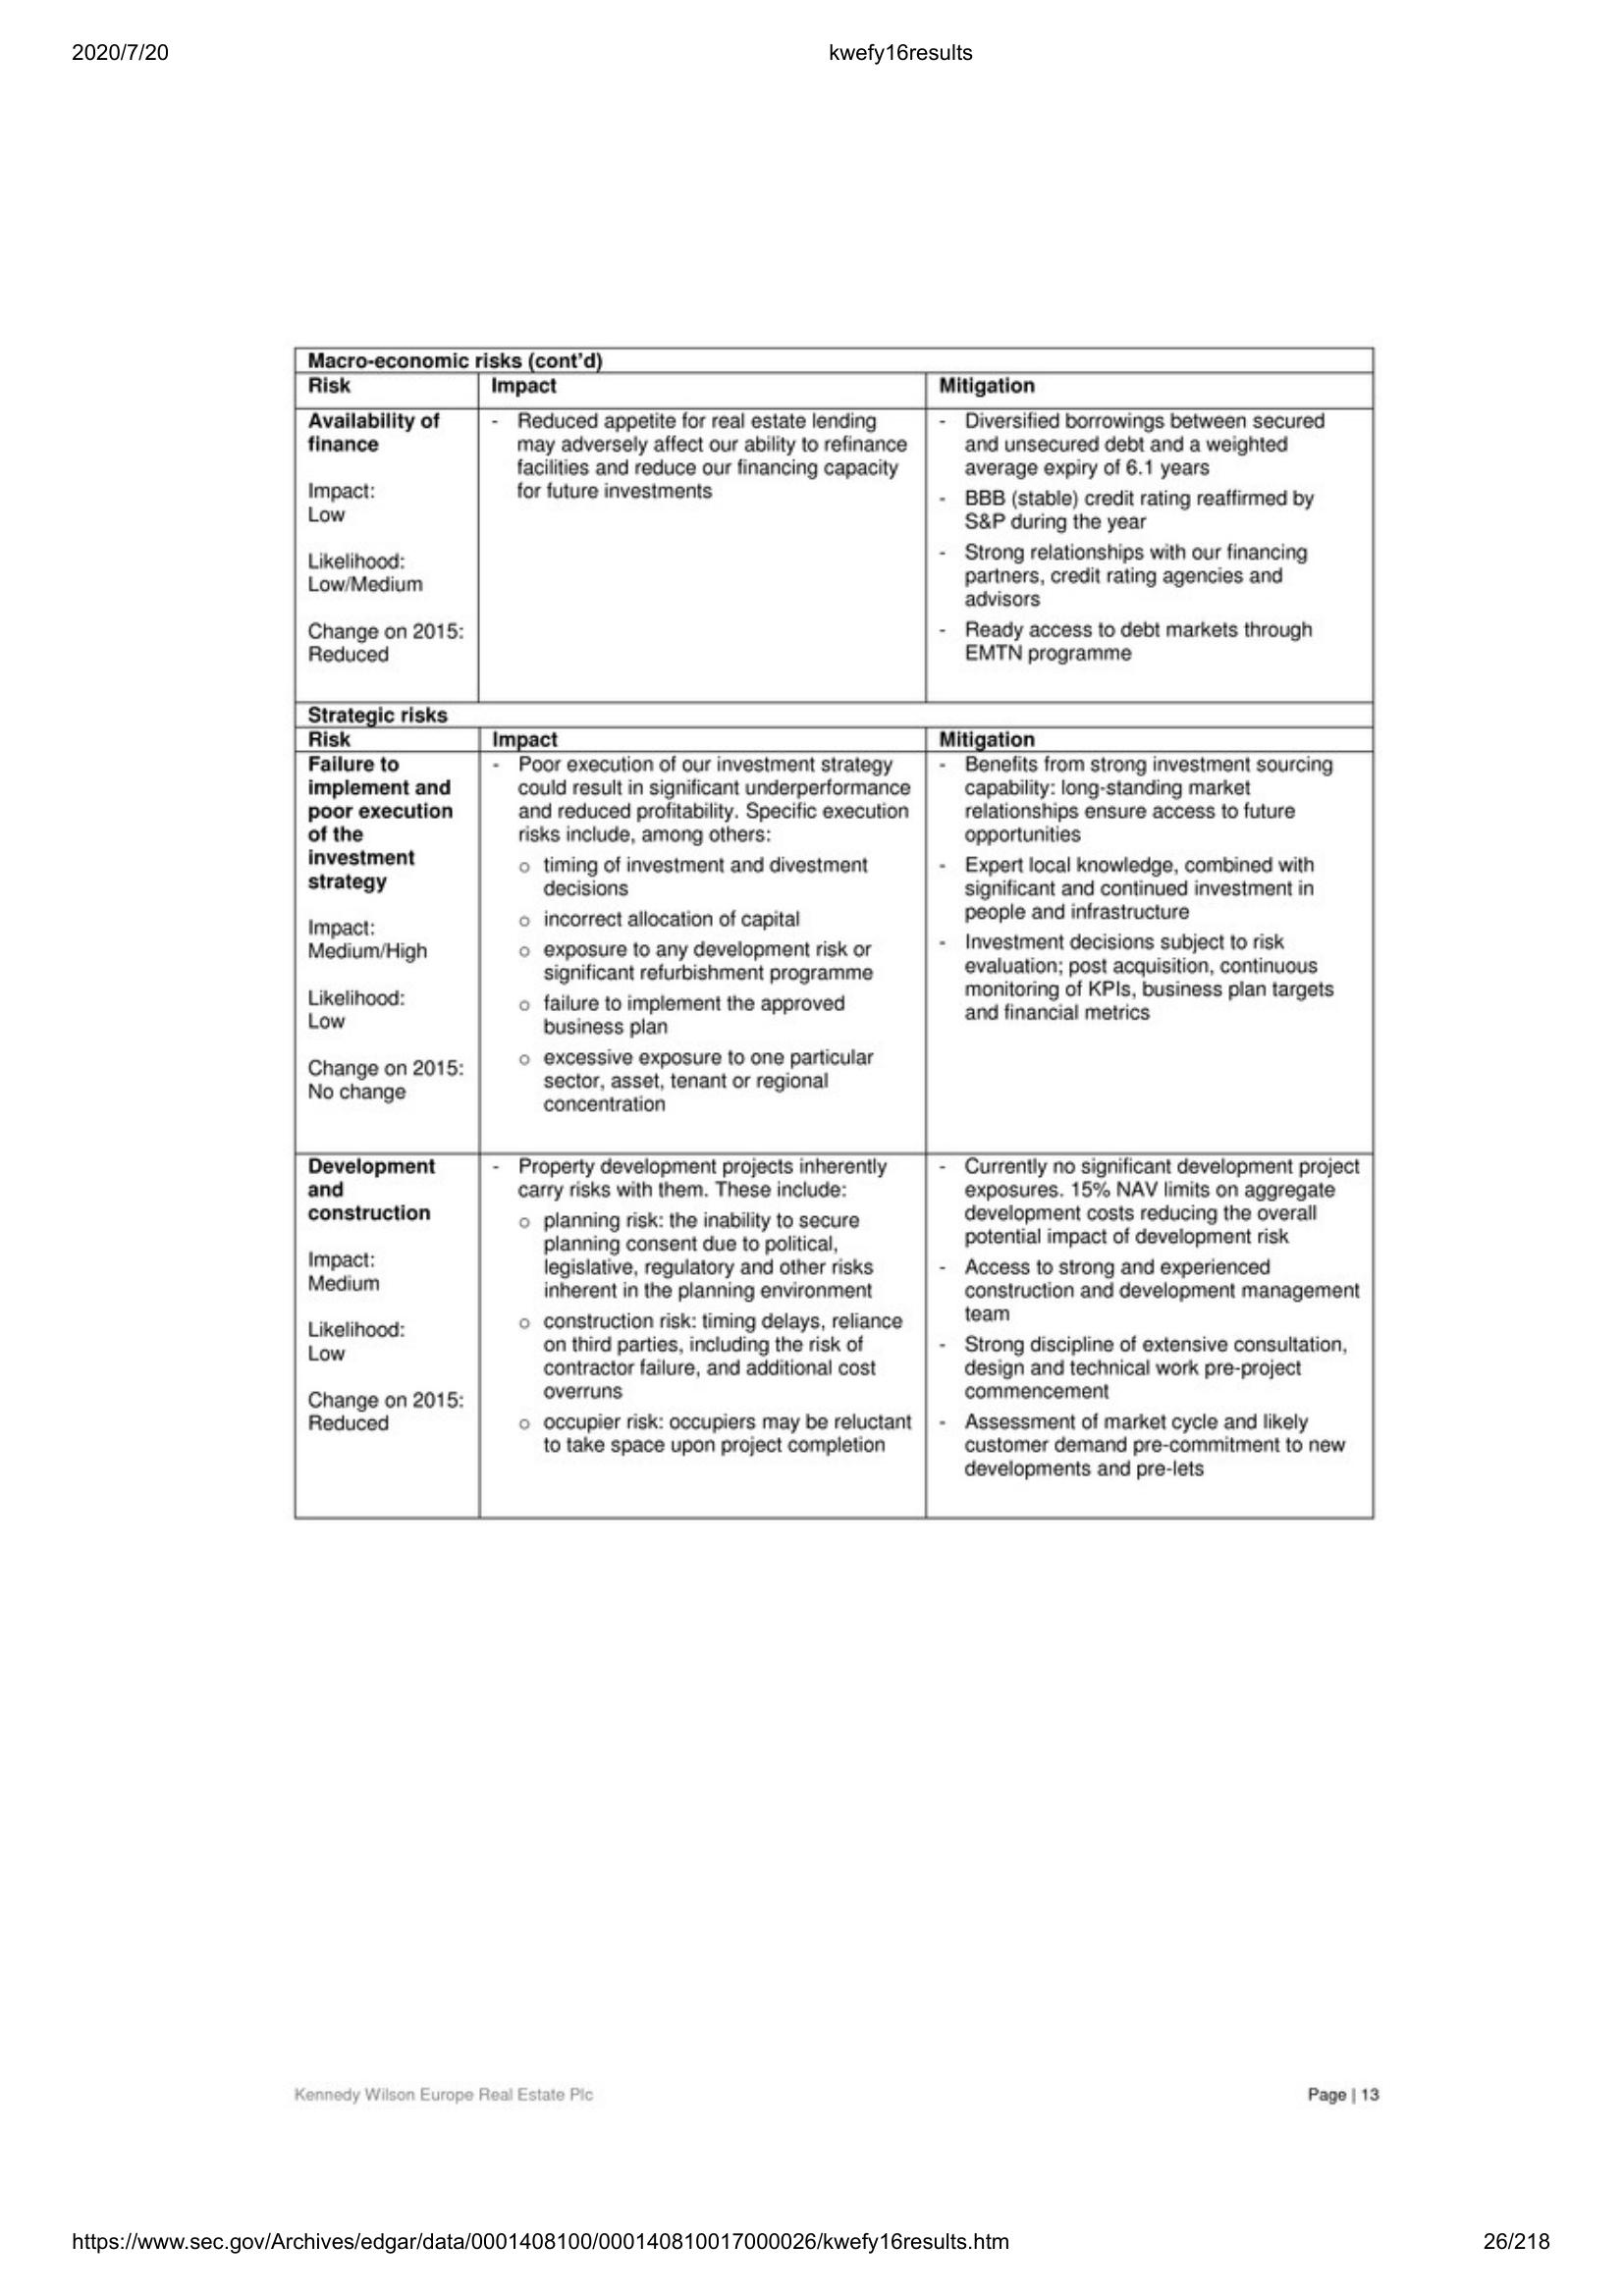table: (283, 342, 1389, 1529)
